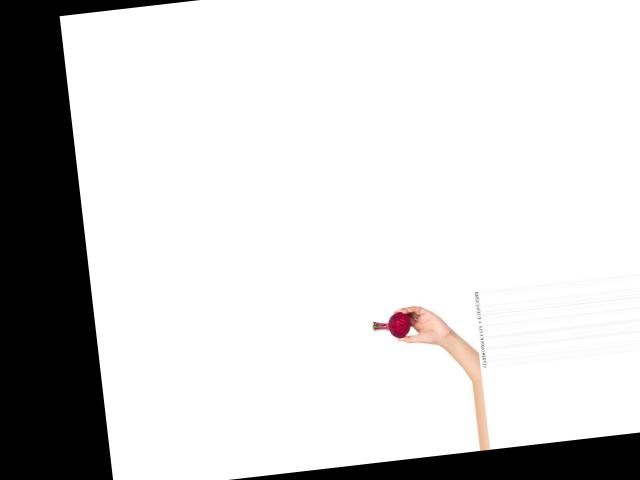beet: (371, 310, 412, 340)
